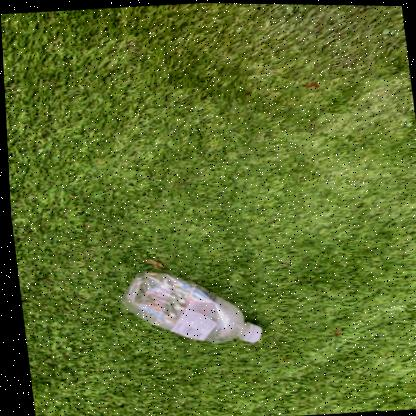Plastic: (116, 272, 259, 343)
